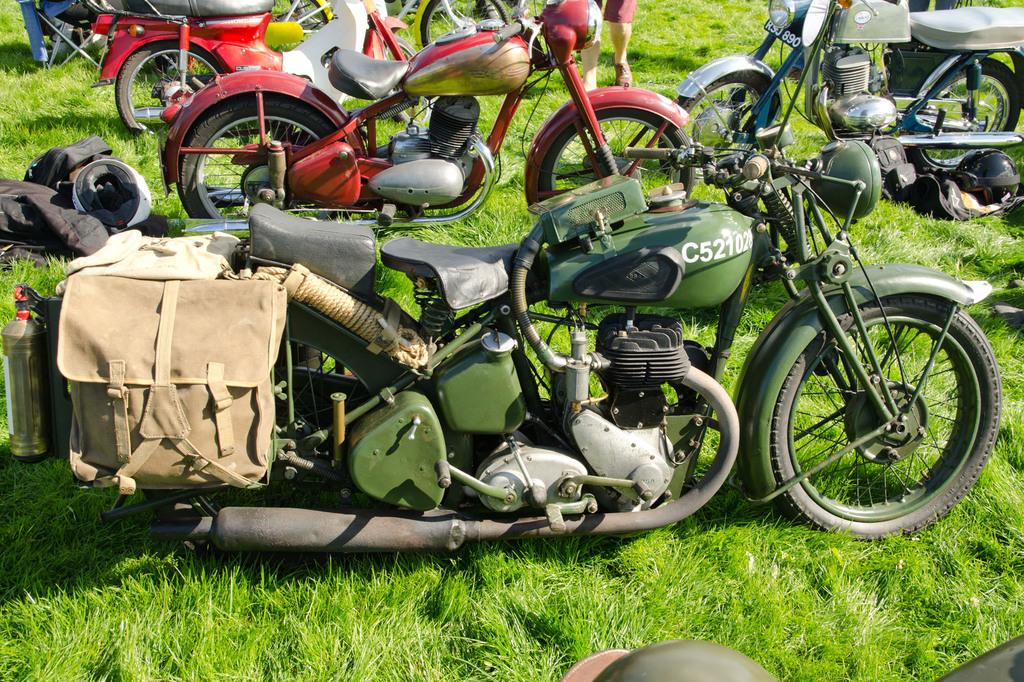Luggage-and-bags: (44, 218, 288, 512), (0, 177, 110, 262), (20, 131, 113, 189)
